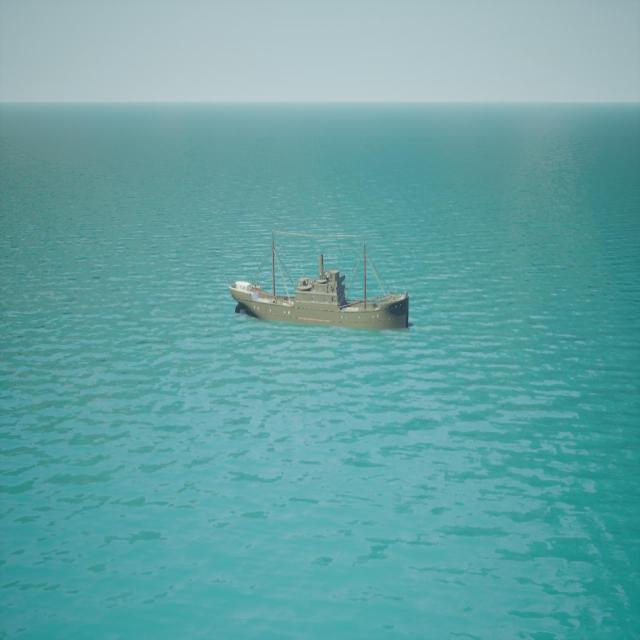fishing ship: (229, 237, 411, 330)
